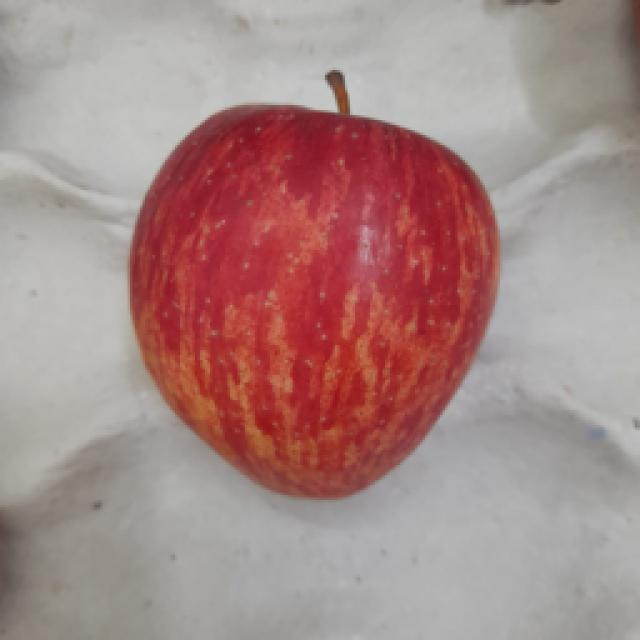Fresh_Apple: (113, 68, 514, 522)
